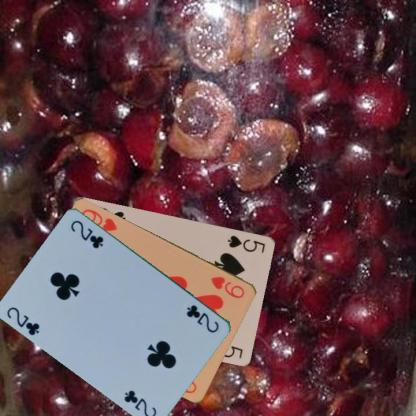2c: (4, 304, 42, 337), (184, 302, 220, 334)
5s: (225, 232, 267, 254)
9h: (208, 273, 246, 300)
